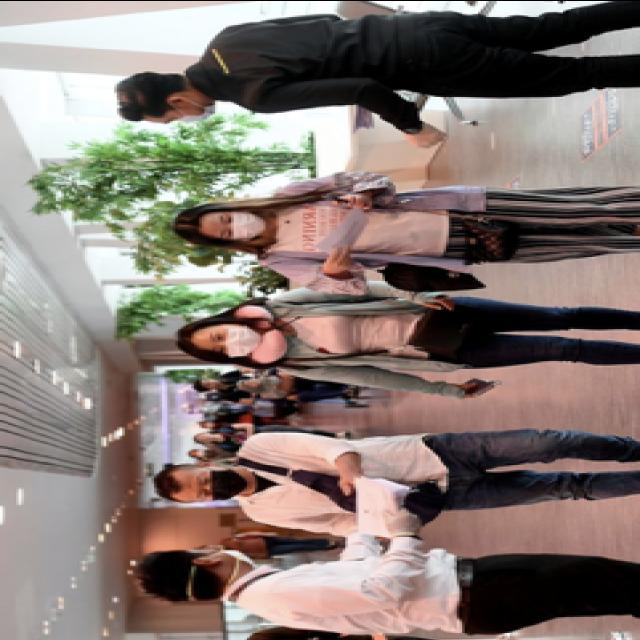mask: (188, 468, 250, 502), (205, 322, 262, 356), (212, 208, 268, 240), (154, 100, 215, 122), (186, 547, 260, 565), (188, 448, 204, 456), (199, 421, 215, 427)
no_mask: (191, 432, 215, 443), (239, 376, 260, 387), (200, 376, 218, 387)
